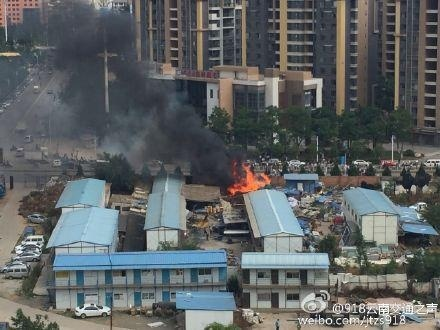fire: (226, 161, 271, 194)
